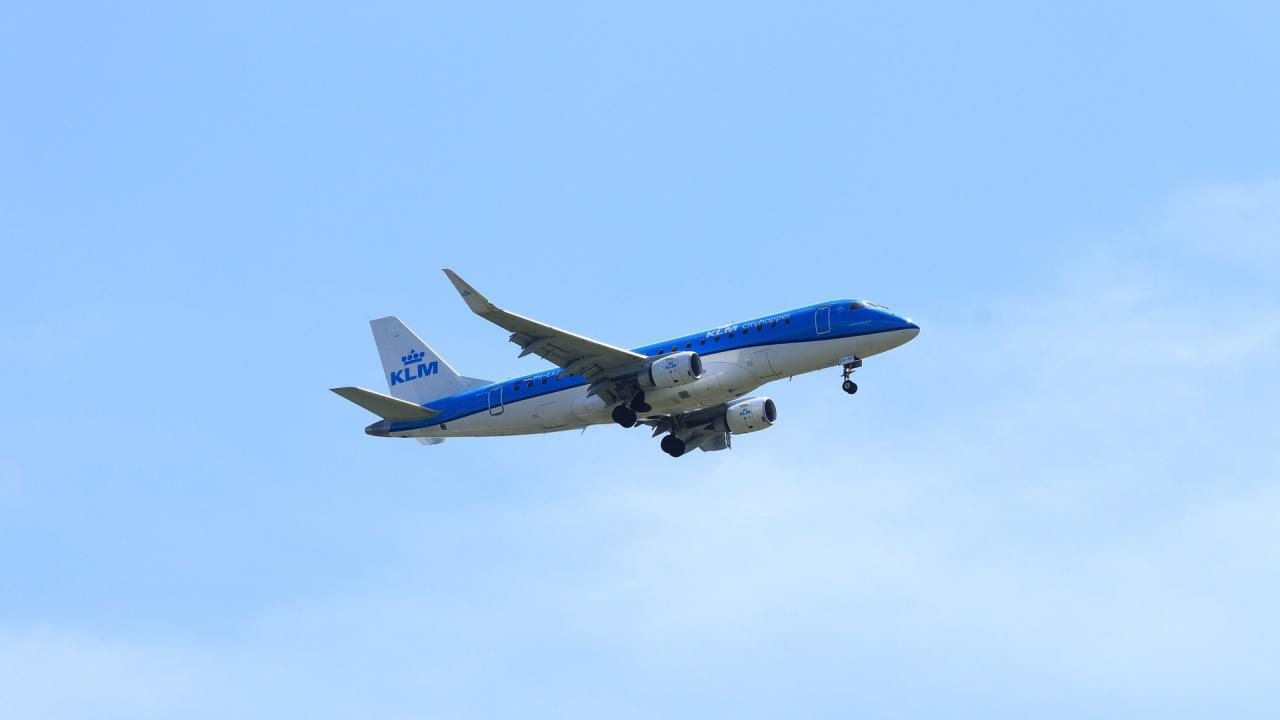Airplane: (321, 257, 932, 469)
